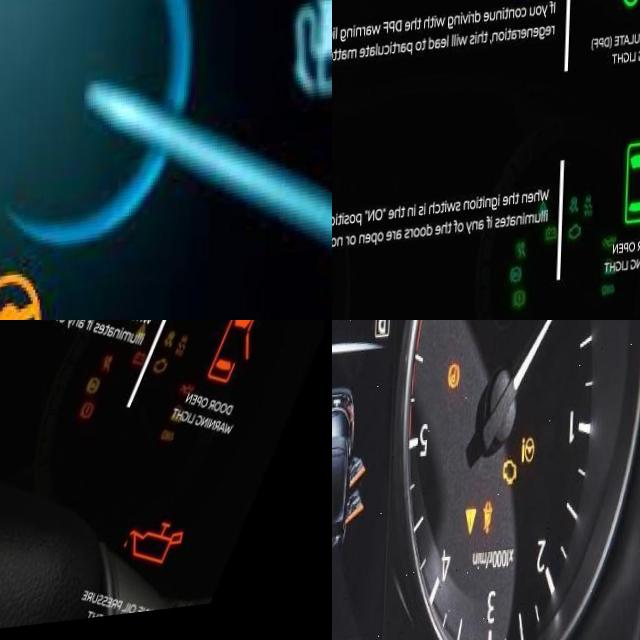Electronic Power Steering: (0, 273, 44, 320)
Electronic Power Steering Warning: (522, 442, 544, 477)
Seat Belt: (481, 509, 502, 549)
